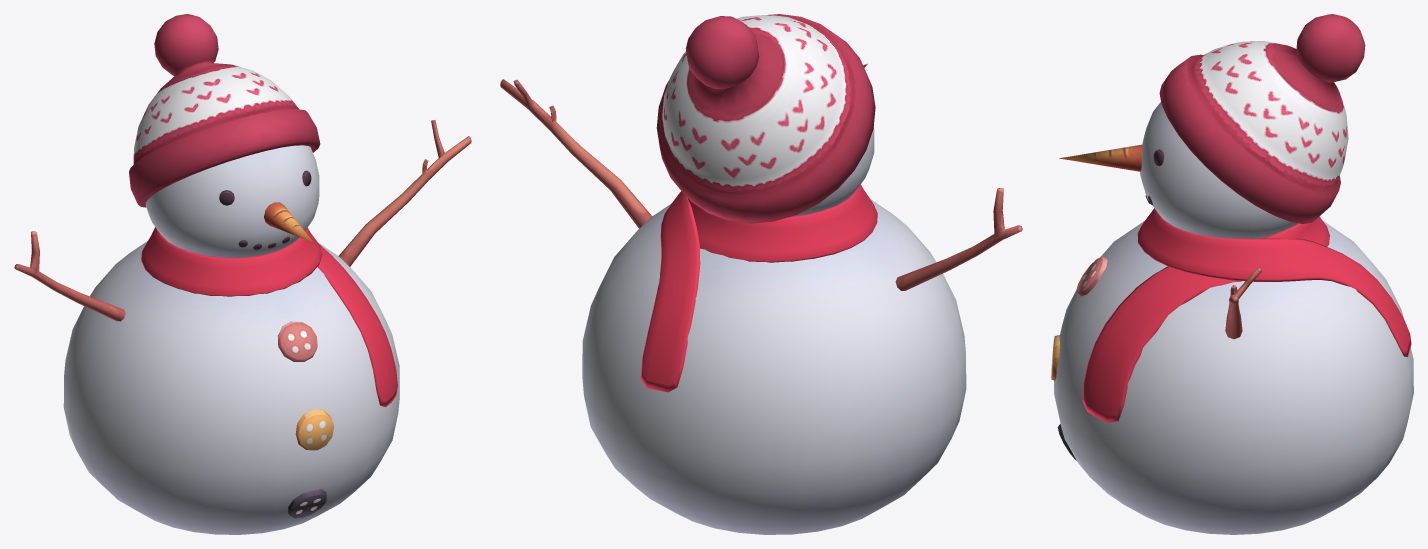
3 views of the same model, side by side, from view 1: azimuth 30°, elevation 25°; view 2: azimuth 150°, elevation 25°; view 3: azimuth 270°, elevation 25° (orthographic). The views are drawn at different scales.
Parts seen in each view (by area): view 1: wk_s_18; view 2: wk_s_18; view 3: wk_s_18.
Part boxes in pixels (left/top/right/bottom): wk_s_18: left=14, top=14, right=471, bottom=534; wk_s_18: left=500, top=14, right=1022, bottom=534; wk_s_18: left=1051, top=14, right=1413, bottom=534.
Bounding box in the file's own units: 10.74 × 6.94 × 10.38.
1 material, 1 textured.
